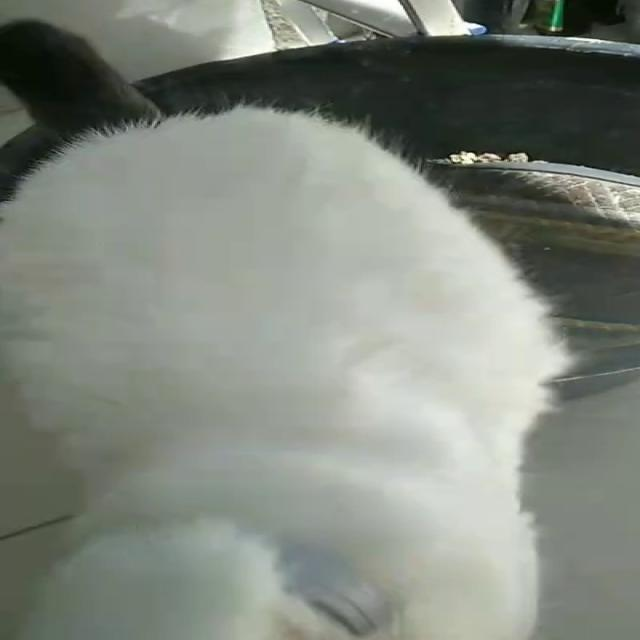Simba: (0, 8, 517, 639)
